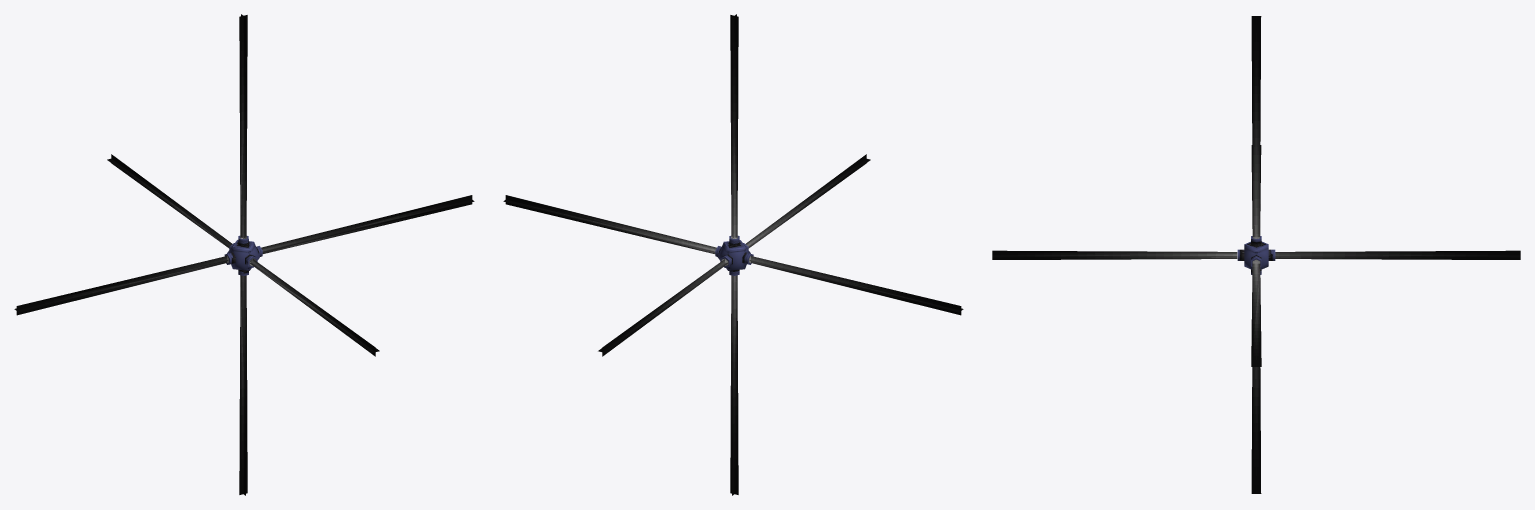
The model's file is stg300_MotLightballA_p3_16.obj.
3 views of the same model, side by side, from view 1: azimuth 30°, elevation 25°; view 2: azimuth 150°, elevation 25°; view 3: azimuth 270°, elevation 25° (orthographic).
Visible parts, largest first — view 1: polygon2, polygon1, polygon6, polygon5, polygon3, polygon4, polygon0; view 2: polygon2, polygon1, polygon6, polygon5, polygon4, polygon3, polygon0; view 3: polygon4, polygon3, polygon6, polygon5, polygon2, polygon0.
Part boxes in pixels (x1=…): polygon2: x1=261, y1=195, x2=474, y2=253; polygon1: x1=14, y1=256, x2=228, y2=315; polygon6: x1=239, y1=14, x2=247, y2=238; polygon5: x1=239, y1=275, x2=247, y2=495; polygon3: x1=249, y1=258, x2=379, y2=356; polygon4: x1=107, y1=154, x2=232, y2=248; polygon0: x1=224, y1=235, x2=262, y2=275; polygon2: x1=503, y1=195, x2=716, y2=253; polygon1: x1=749, y1=256, x2=963, y2=315; polygon6: x1=730, y1=14, x2=738, y2=238; polygon5: x1=730, y1=275, x2=738, y2=495; polygon4: x1=598, y1=258, x2=727, y2=356; polygon3: x1=745, y1=154, x2=870, y2=248; polygon0: x1=715, y1=235, x2=753, y2=275; polygon4: x1=1275, y1=250, x2=1520, y2=259; polygon3: x1=992, y1=250, x2=1237, y2=259; polygon6: x1=1251, y1=16, x2=1261, y2=238; polygon5: x1=1251, y1=367, x2=1261, y2=493; polygon2: x1=1251, y1=259, x2=1261, y2=366; polygon0: x1=1237, y1=236, x2=1275, y2=274.
Size of the model in its own units: 1201 by 1205 by 1207.
